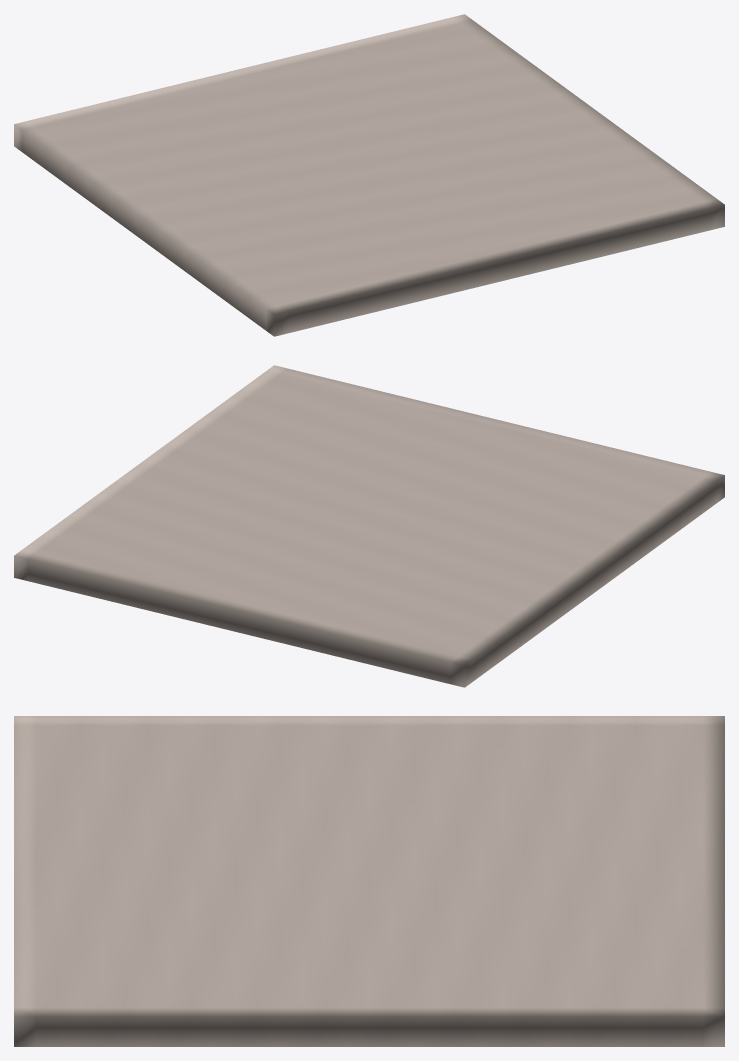
Rendered from terrain-tile-2.glb.
The picture shows the model from 3 angles, top to bottom: view 1: azimuth 30°, elevation 25°; view 2: azimuth 150°, elevation 25°; view 3: azimuth 270°, elevation 25°; orthographic projection. The views are drawn at different scales.
Parts seen in each view (by area): view 1: Deformable terrain tile; view 2: Deformable terrain tile; view 3: Deformable terrain tile.
Boxes of the visible parts, left/top/right/bottom form: Deformable terrain tile: left=14, top=14, right=724, bottom=336; Deformable terrain tile: left=14, top=365, right=724, bottom=687; Deformable terrain tile: left=14, top=716, right=724, bottom=1046.
Size of the model in its own units: 64 by 3 by 64.
